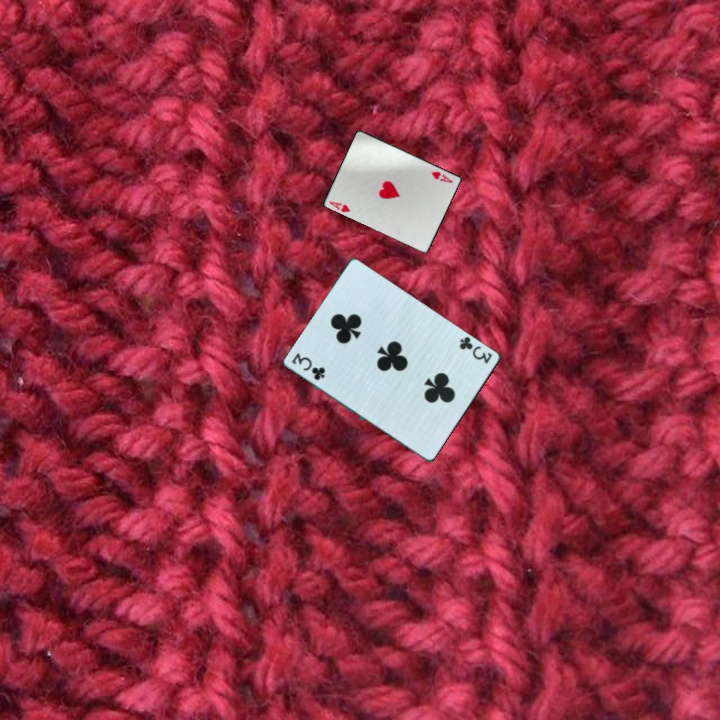3c: (456, 333, 496, 367), (288, 351, 328, 383)
Ah: (427, 168, 455, 186), (325, 198, 353, 215)
